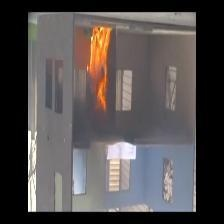fire: (82, 19, 116, 113)
